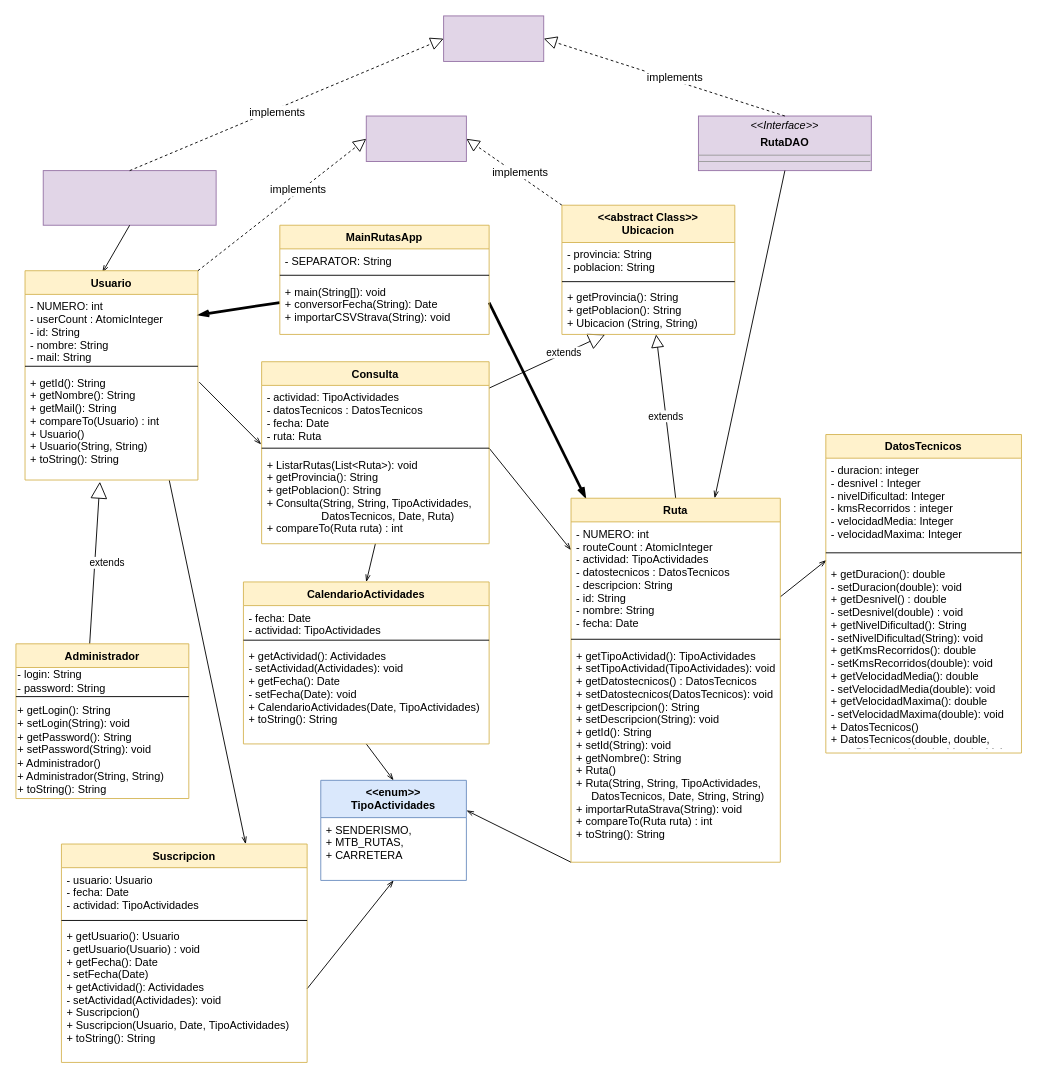
This 1037x1078 diagram has some shape labels left out. Each missing label, with the centre of its shape:
<<Interface>> UsuarioDAO: [129,197]
«interface» Comparable: [415,138]
«interface» JpaRepository: [493,38]
